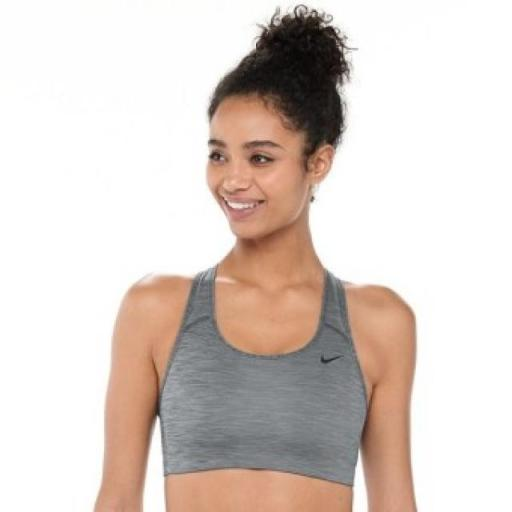Nike: (313, 346, 346, 368)
